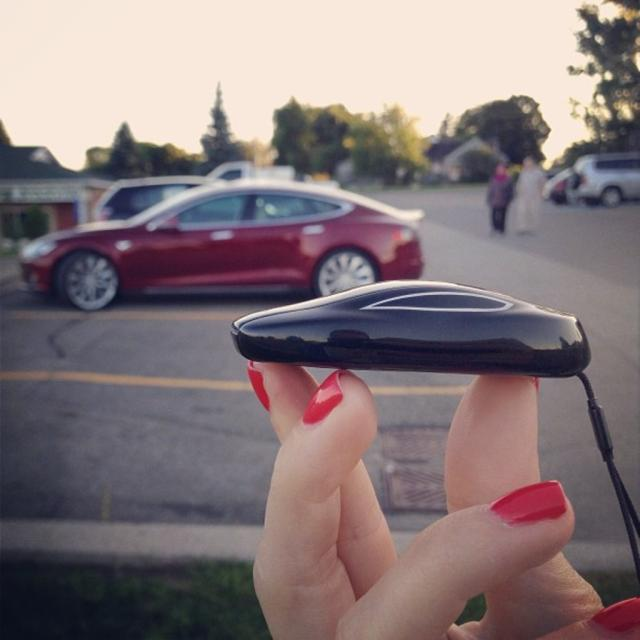car: (16, 172, 448, 320)
